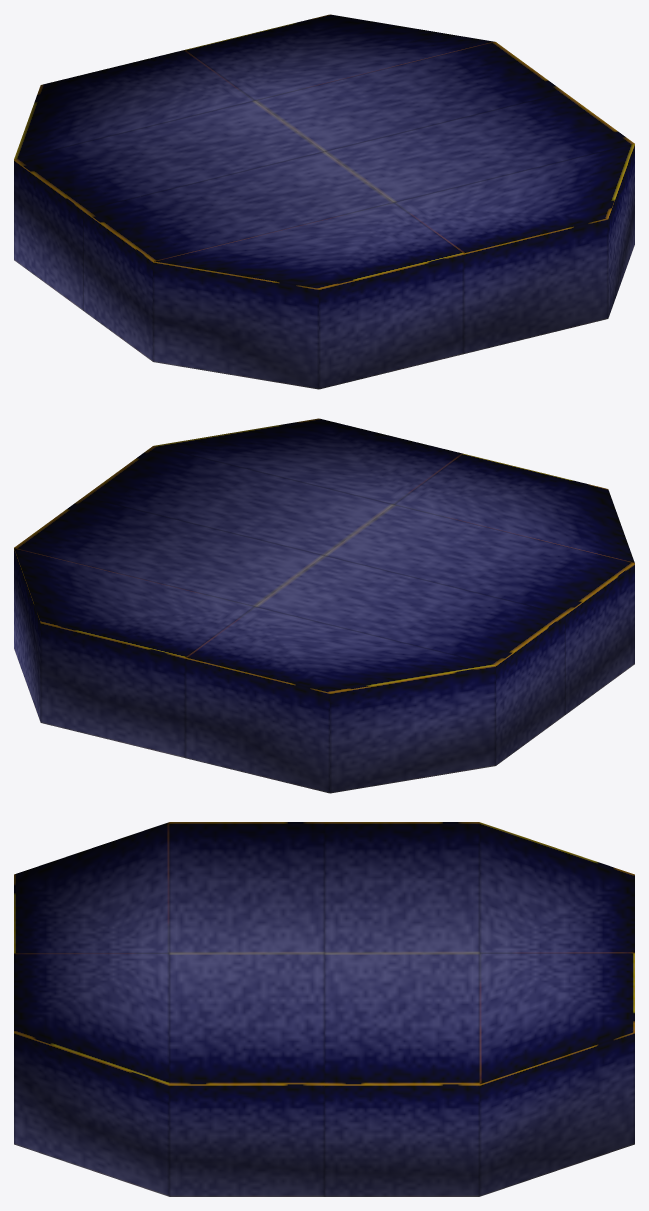
3 renders of one model, top to bottom at view 1: azimuth 30°, elevation 25°; view 2: azimuth 150°, elevation 25°; view 3: azimuth 270°, elevation 25°, orthographic. The views are drawn at different scales.
Visible parts, largest first — view 1: T1L8M005_3; view 2: T1L8M005_3; view 3: T1L8M005_3.
Part boxes in pixels (left/top/right/bottom): T1L8M005_3: left=14, top=14, right=634, bottom=389; T1L8M005_3: left=14, top=418, right=634, bottom=793; T1L8M005_3: left=14, top=822, right=634, bottom=1196.
Size of the model in its own units: 2 by 0.3994 by 2.
